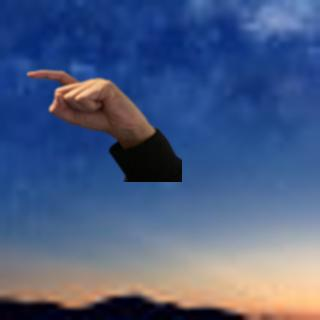WHY: (20, 63, 148, 142)
